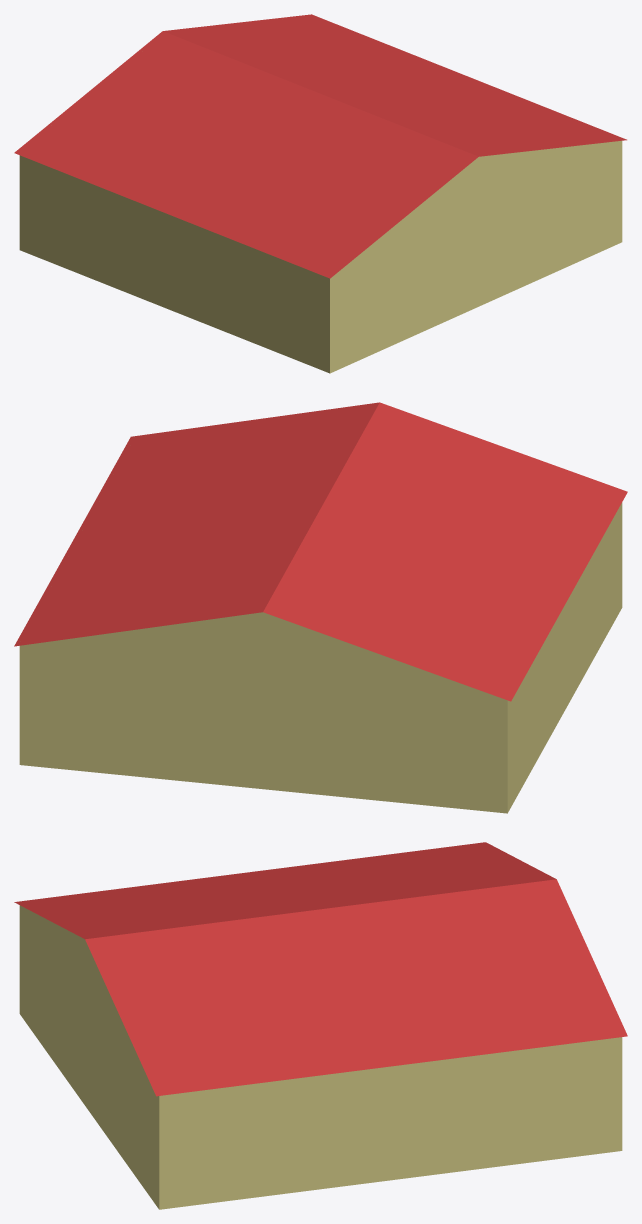
3 renders of one model, top to bottom at view 1: azimuth 30°, elevation 25°; view 2: azimuth 150°, elevation 25°; view 3: azimuth 270°, elevation 25°, orthographic. The views are drawn at different scales.
Size of the model in its own units: 33.99 by 33.97 by 10.56.
